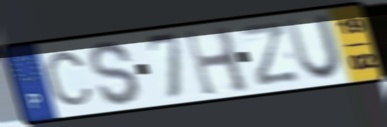7: (143, 32, 186, 103)
C: (43, 50, 96, 108)
H: (181, 25, 253, 99)
S: (87, 39, 144, 108)
U: (283, 12, 346, 83)
Z: (237, 20, 303, 90)
